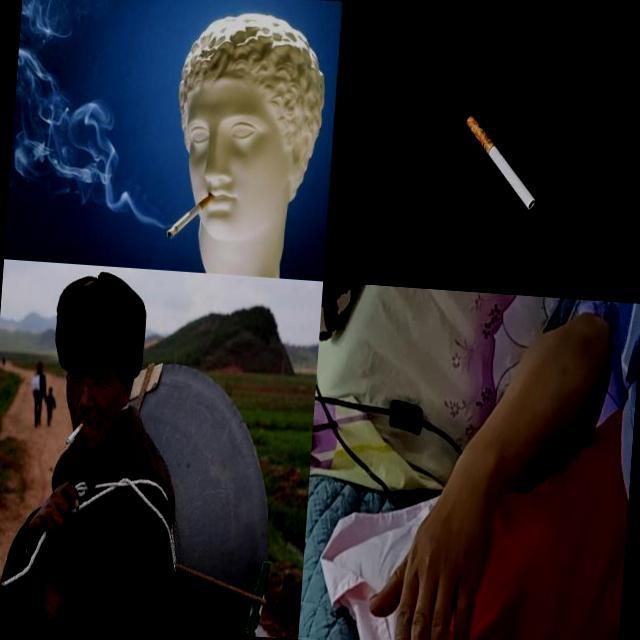cigarette: (458, 112, 544, 208), (165, 183, 217, 250), (64, 420, 85, 446)
